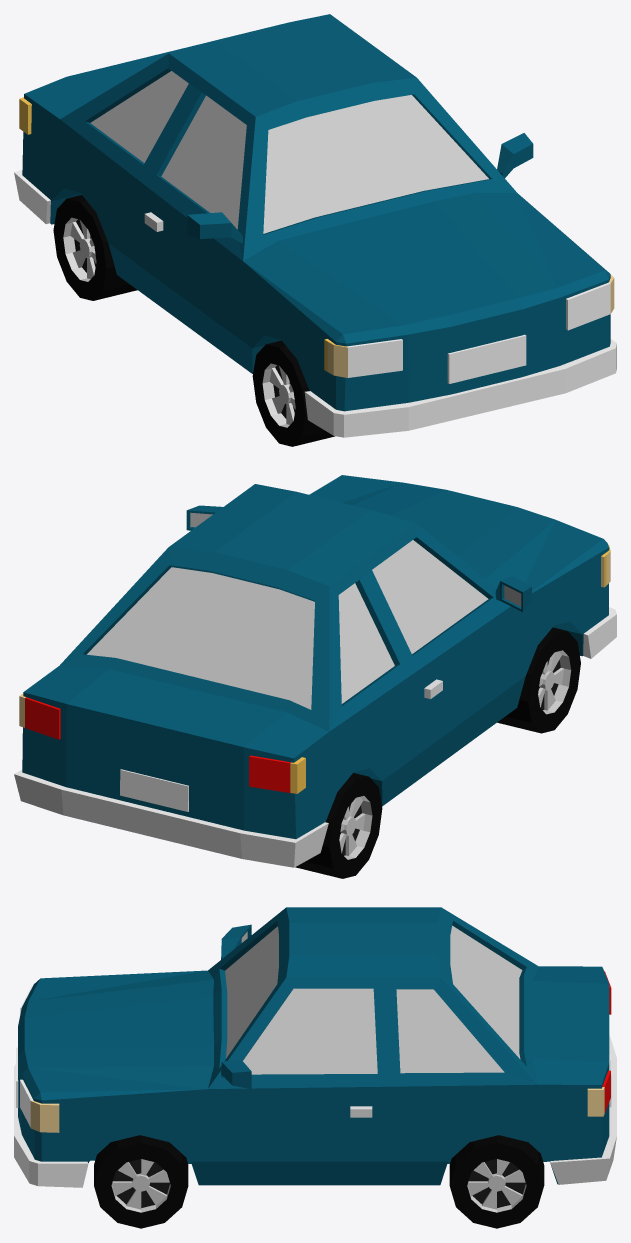
Rendered from Car-01-B.fbx.
3 renders of one model, top to bottom at view 1: azimuth 30°, elevation 25°; view 2: azimuth 150°, elevation 25°; view 3: azimuth 270°, elevation 25°, orthographic. The views are drawn at different scales.
Parts seen in each view (by area): view 1: Car-01, BR, FR, High-Beam, Light-Right; view 2: Car-01, BR, FR, Break-Light; view 3: Car-01, BL, FL, Light-Left.
Part boxes in pixels (x1,y1,x2,y2): Car-01: (14,14,616,437); BR: (53,195,137,300); FR: (252,340,334,446); High-Beam: (346,282,610,377); Light-Right: (326,339,347,377); Car-01: (14,475,616,867); BR: (295,773,382,878); FR: (497,627,580,733); Break-Light: (25,697,290,792); Car-01: (14,907,616,1187); BL: (449,1135,544,1228); FL: (94,1135,188,1228); Light-Left: (30,1087,604,1132).
Bounding box in the file's own units: 2.45 × 1.79 × 4.26.
